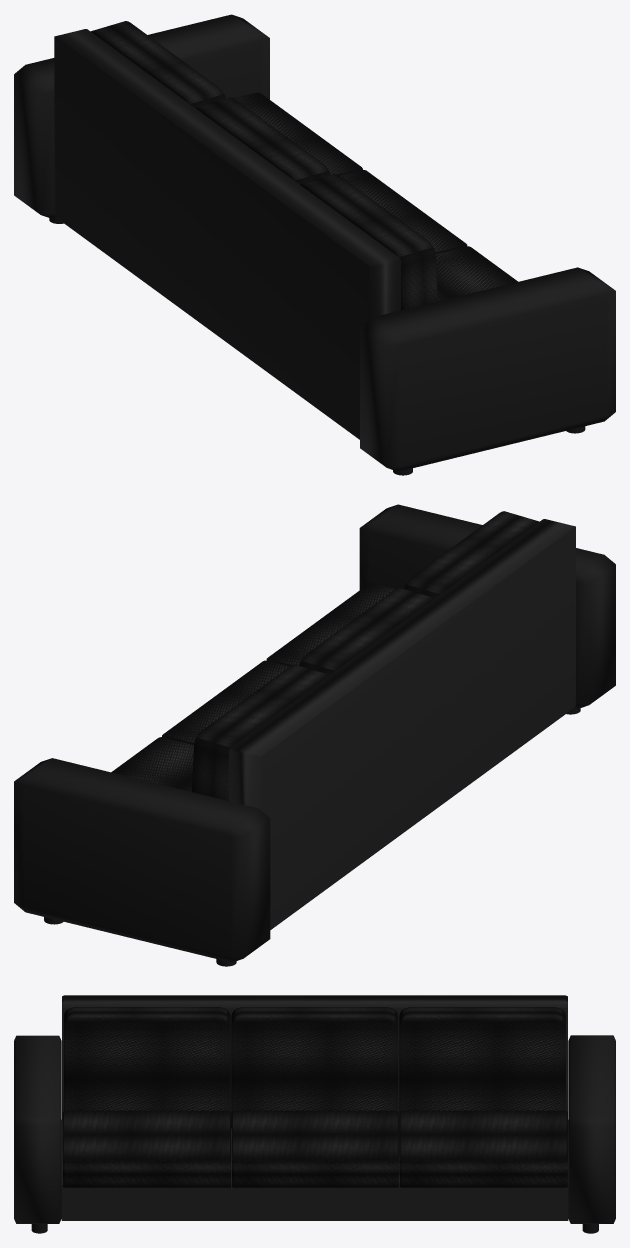
Rendered from Sofa.glb.
The picture shows the model from 3 angles, top to bottom: view 1: azimuth 30°, elevation 25°; view 2: azimuth 150°, elevation 25°; view 3: azimuth 270°, elevation 25°; orthographic projection. The views are drawn at different scales.
Visible parts, largest first — view 1: Cube, Cube.002, Cube.001, Cube.005, Cube.009, Cube.007, Cube.004, Cube.008, Cube.003; view 2: Cube, Cube.001, Cube.002, Cube.009, Cube.007, Cube.005, Cube.008, Cube.004, Cube.003; view 3: Cube.006, Cube.007, Cube.009, Cube.005, Cube.004, Cube.008, Cube.003, Cube.001, Cube.002, Cube.
Part boxes in pixels (x1,y1,x2,y2): Cube: (54, 29, 400, 439); Cube.002: (360, 267, 615, 471); Cube.001: (14, 14, 269, 218); Cube.005: (300, 174, 437, 310); Cube.009: (91, 21, 225, 107); Cube.007: (195, 97, 330, 184); Cube.004: (435, 246, 518, 301); Cube.008: (234, 92, 362, 175); Cube.003: (339, 170, 467, 253); Cube: (229, 519, 575, 929); Cube.001: (14, 758, 270, 962); Cube.002: (359, 504, 615, 708); Cube.009: (191, 664, 329, 800); Cube.007: (299, 587, 434, 674); Cube.005: (404, 511, 539, 597); Cube.008: (111, 737, 193, 791); Cube.004: (266, 583, 395, 665); Cube.003: (162, 660, 289, 744); Cube.006: (61, 1120, 568, 1220); Cube.007: (231, 1007, 398, 1129); Cube.009: (399, 1007, 565, 1123); Cube.005: (64, 1007, 230, 1111); Cube.004: (62, 1110, 231, 1187); Cube.008: (399, 1110, 567, 1187); Cube.003: (232, 1110, 399, 1187); Cube.001: (568, 1035, 615, 1223); Cube.002: (14, 1035, 61, 1223); Cube: (62, 995, 567, 1120).
Size of the model in its own units: 0.9815 by 0.8294 by 2.78.
Materials: 4 (1 with a texture image).
